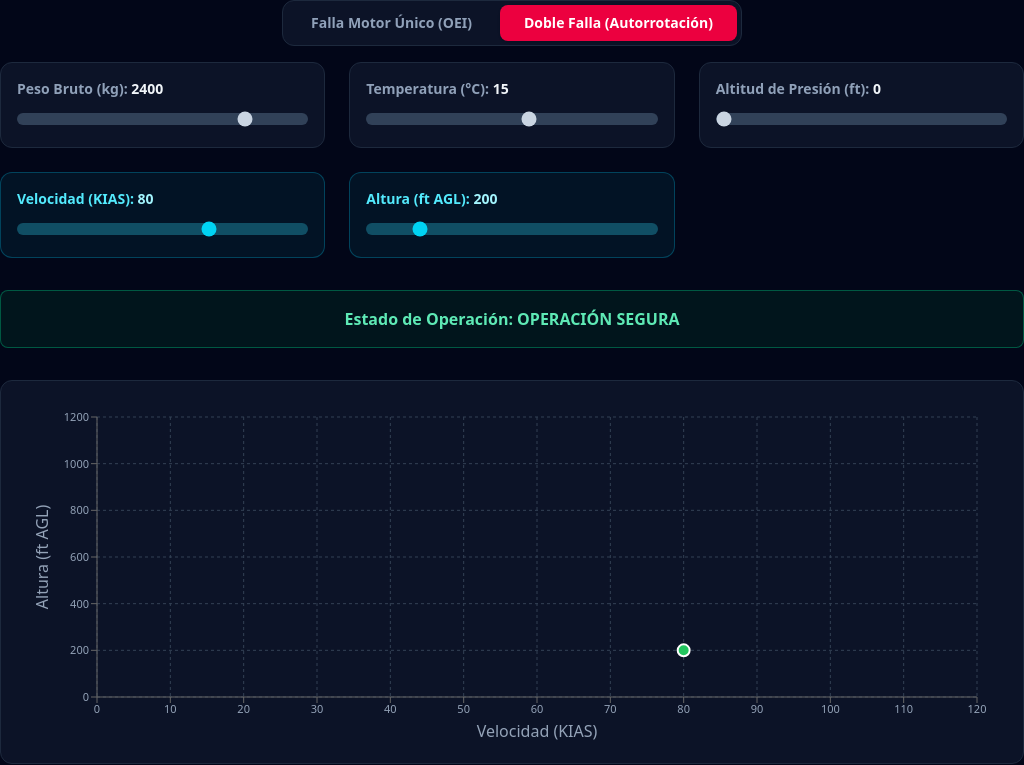
Scenario: HVCurveComputer › identifies high speed and very low height as unsafe (lower avoid area)
Set the slider below "Velocidad (KIAS):" to "90" at point(231, 229), box [17,223,308,235]
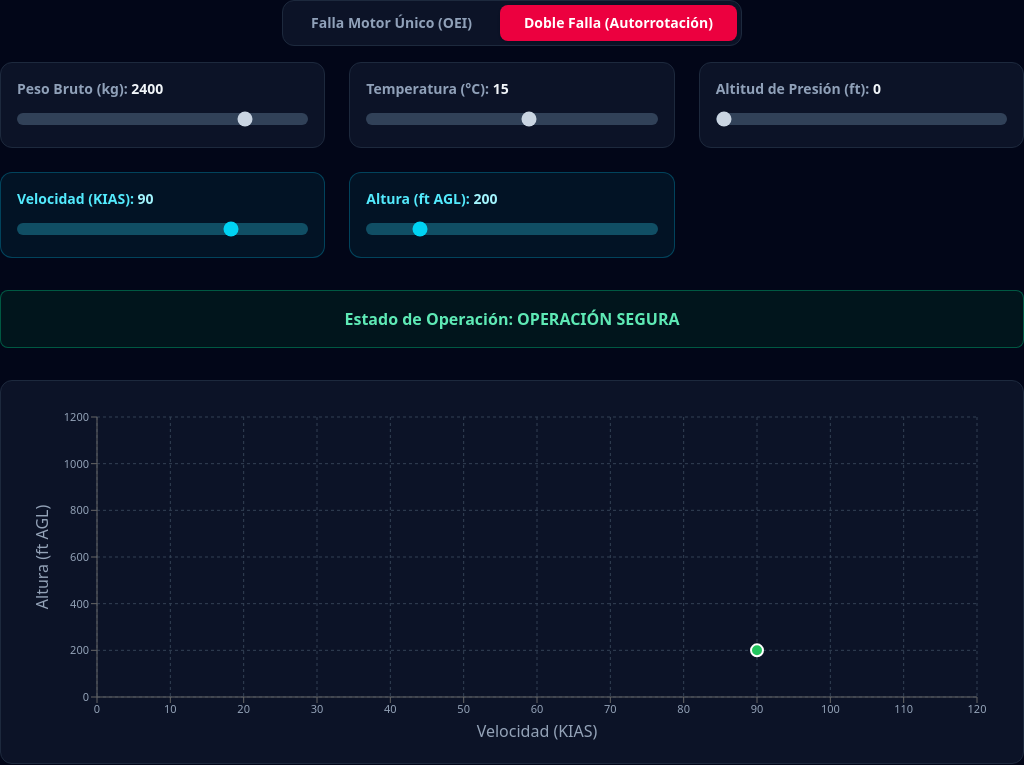
Set the slider below "Altura (ft AGL):" to "10" at point(377, 229), box [366,223,658,235]
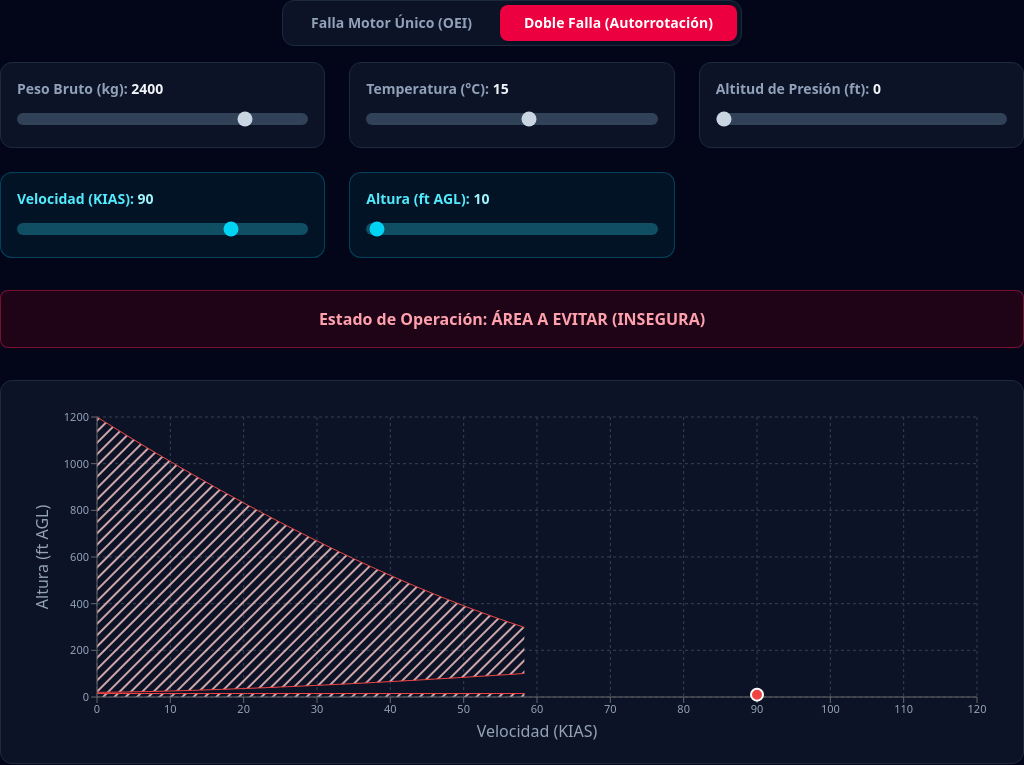
Now the text "Estado de Operación: ÁREA A EVITAR (INSEGURA)" is shown, box [0,290,1023,348]
